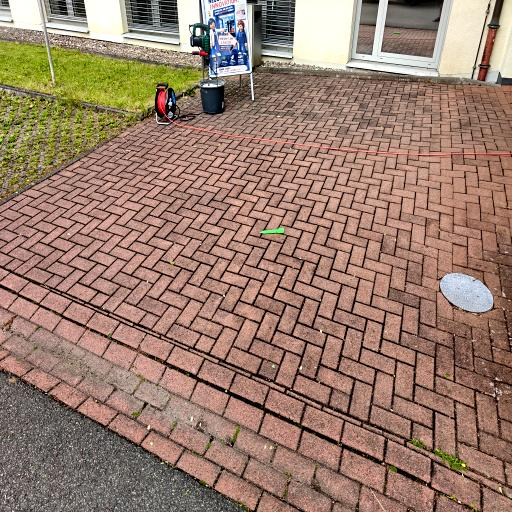Probe-Detection: (260, 228, 284, 234)
